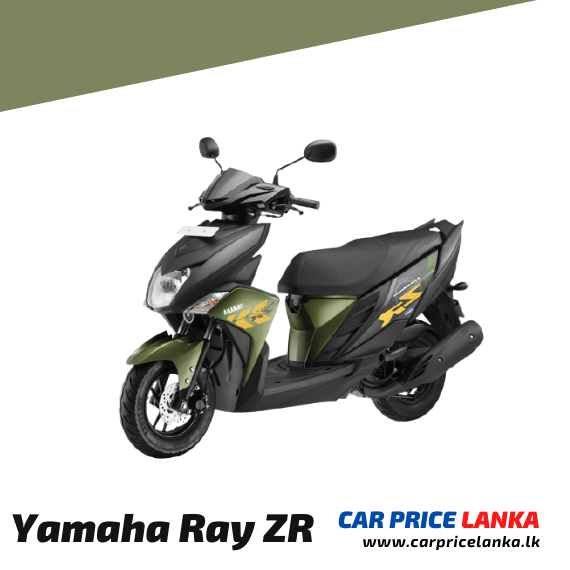motorbike: (118, 138, 484, 459)
